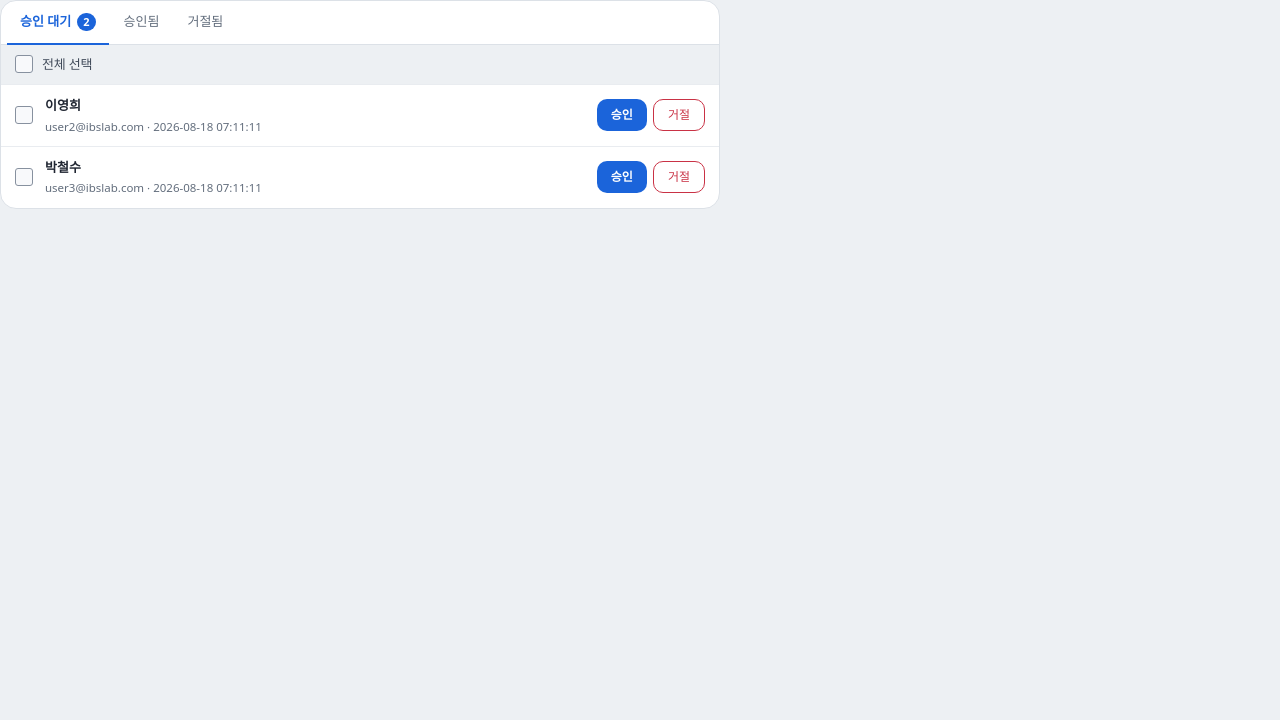
UserApprovalList › 일부가 실패하면 실패한 사람과 사유를 짚어준다
The width and height of the screenshot is (1280, 720).
Check: the text "이영희" is shown, box [45,96,81,114]
What coordinates should you click on to do the following:
click the 1st checkbox labelled "전체 선택"
I would click on:
 (54, 64)
Its box is [15,54,92,74].
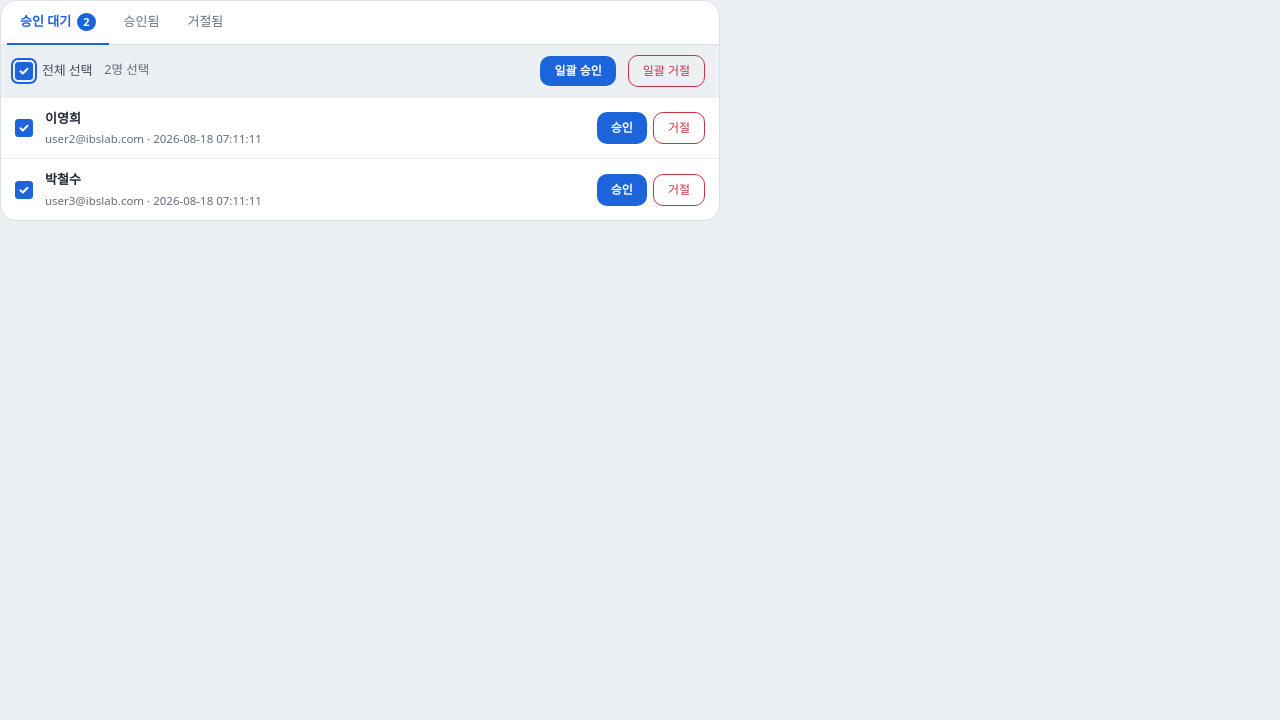
What coordinates should you click on to do the following:
click the button "일괄 승인"
I would click on:
 (578, 70)
Its box is [540,56,616,86].
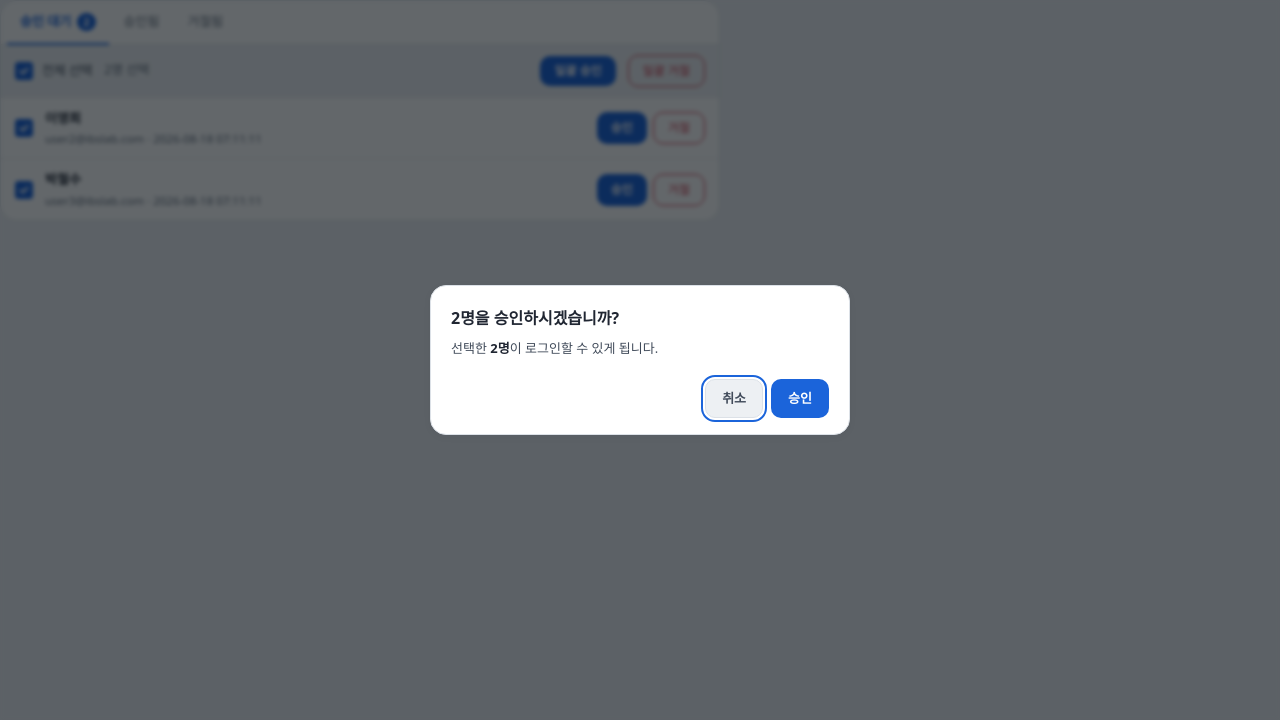
What coordinates should you click on to do the following:
click the button "승인"
I would click on:
 (800, 399)
Its box is [771,379,829,418].
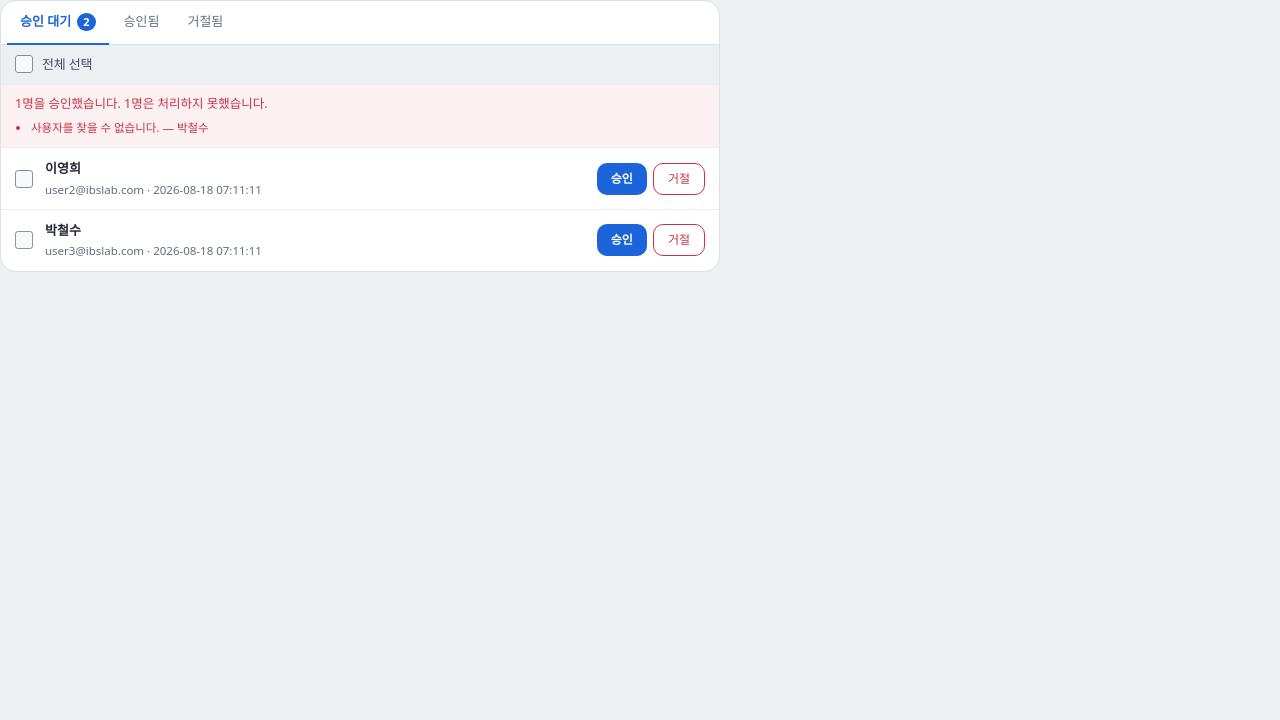
Check: the message shows "1명을 승인했습니다. 1명은 처리하지 못했습니다.", box [15,95,268,112]
Check: the message shows "사용자를 찾을 수 없습니다. — 박철수", box [31,120,209,135]
